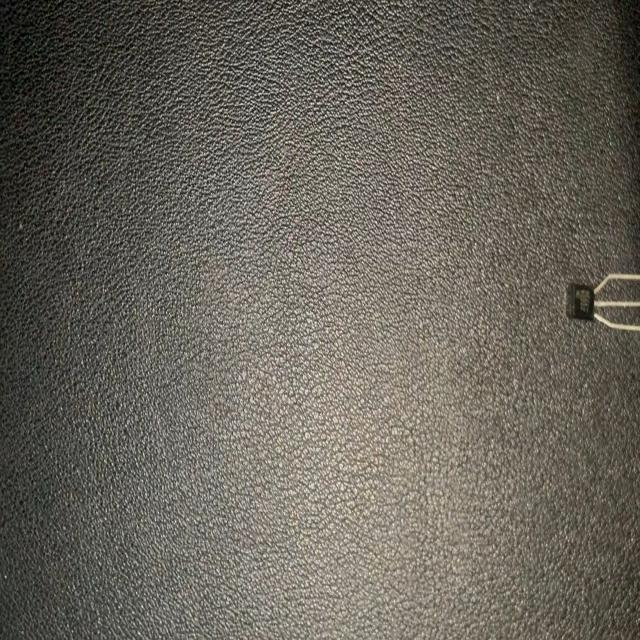BJT: (566, 270, 640, 333)
